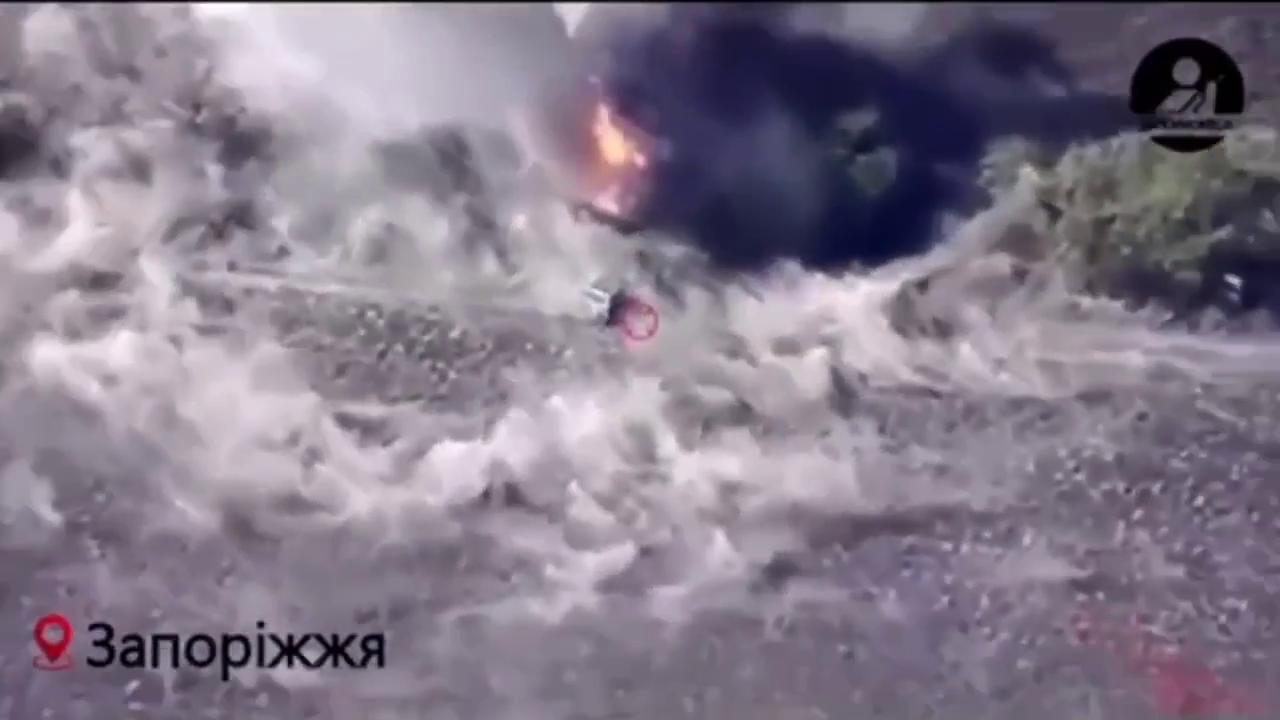tank: (582, 259, 644, 330)
